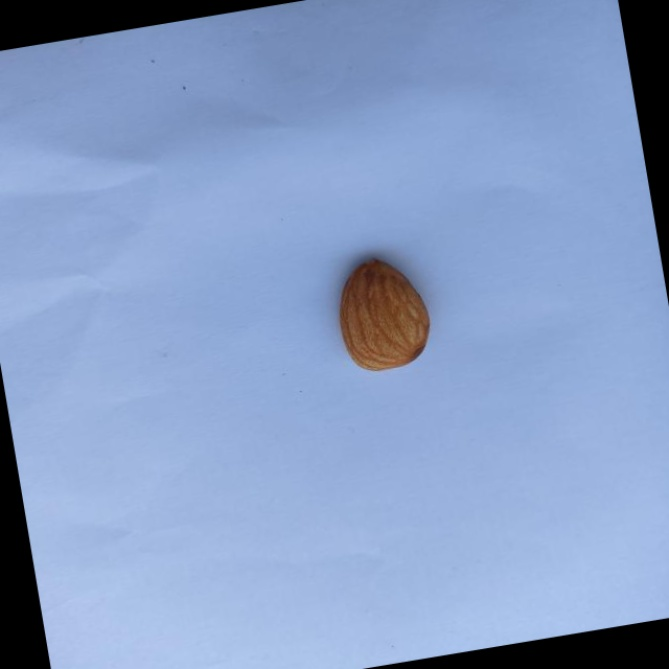grade1: (319, 242, 444, 385)
